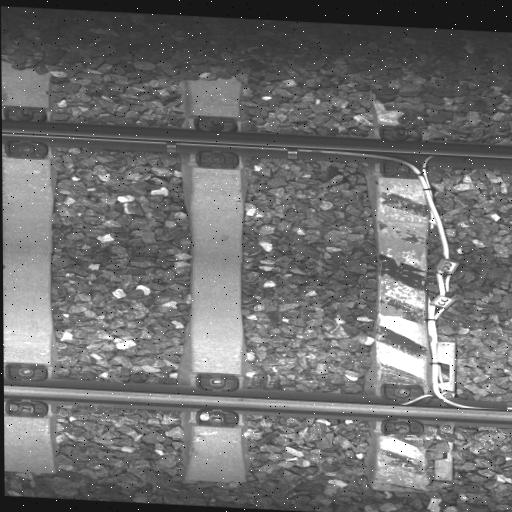sleeper: (367, 81, 444, 495), (179, 73, 248, 487), (0, 58, 57, 477)
